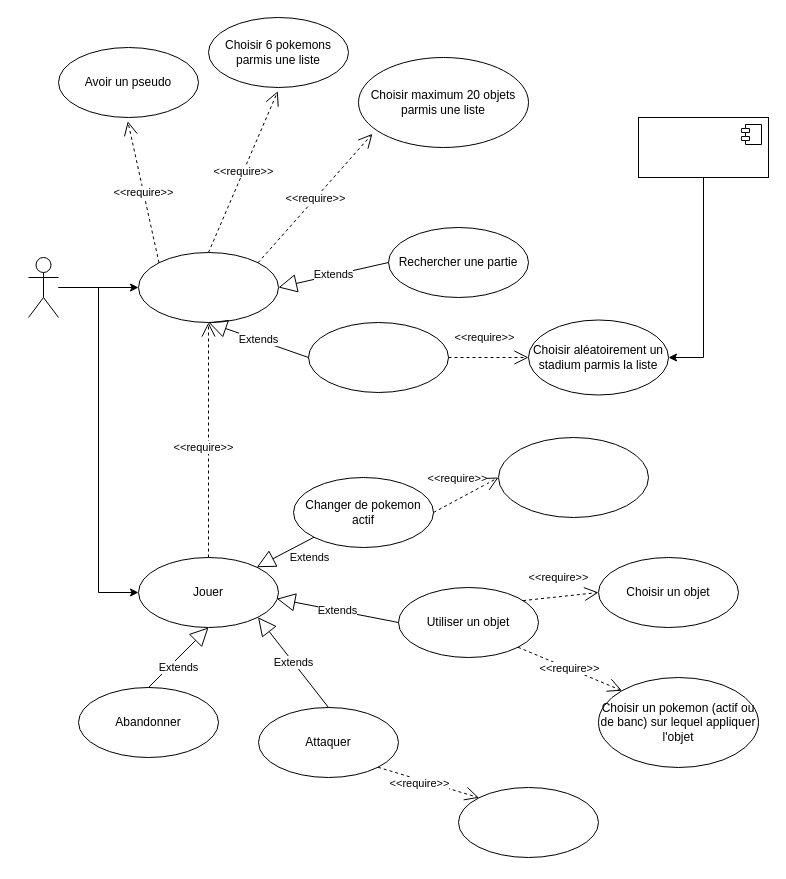
This 786x879 diagram has some shape labels left out. The shapes that lost their labels are listed below. From the top down, each one's box as (x1, y1, x2, y2) in pixels, then its label:
(638, 116, 768, 178): Système
(28, 256, 58, 318): Utilisateur
(138, 252, 278, 322): Lancer une partie
(308, 322, 448, 392): Héberger une partie
(498, 436, 648, 518): Choisir un pokemon de banc pour le remplacer
(458, 786, 598, 858): Choisir une attaque du pokemon actif
